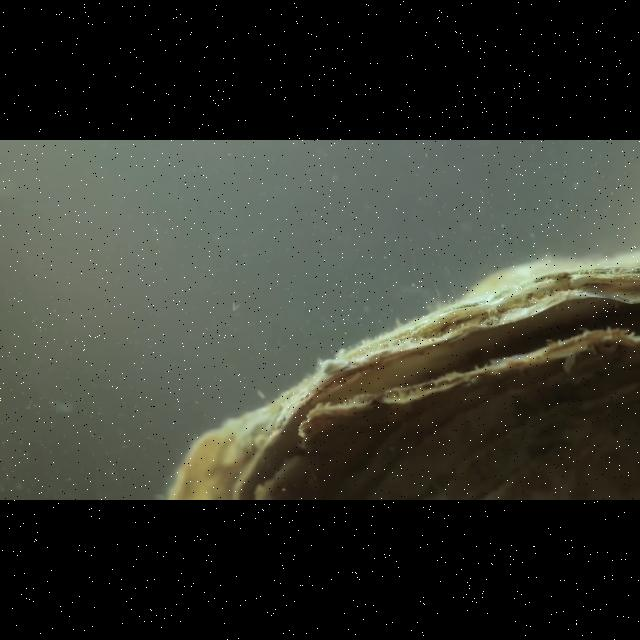Oyster-Open: (167, 255, 639, 497)
